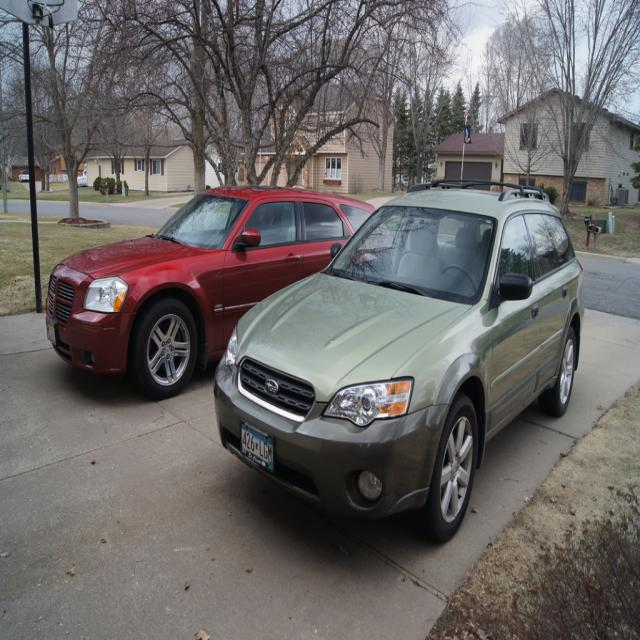car: (213, 180, 585, 539)
